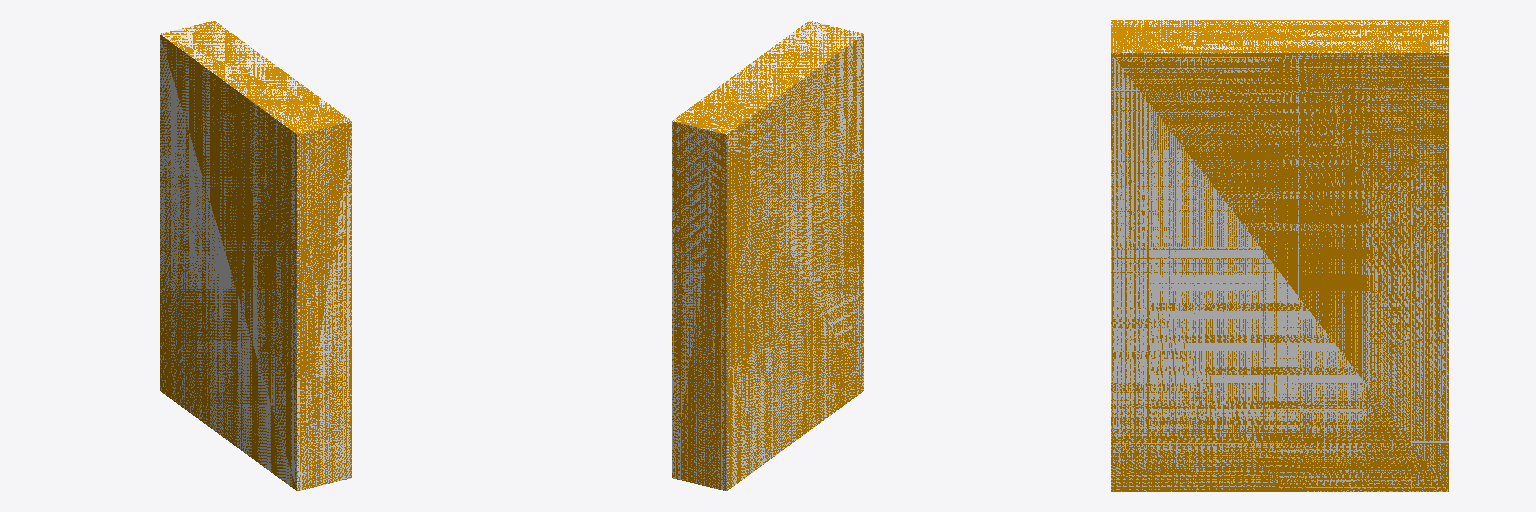
URDF robot description (my_object):
<?xml version="1.0" ?>
<robot name="my_object" static="true">
  <link name="base_link">
  <inertial>
    <mass value="0.453" />
    <origin xyz="0 0 0.0" />
    <inertia ixx="1.0" ixy="0.0" ixz="0.0" iyy="1.0" iyz="0.0" izz="1.0"/>
  </inertial>
  <visual>
   <origin xyz="0 0 0.0" rpy="0 0 0" />
   <geometry>
     <mesh filename="package://cob_gazebo_objects/Media/models/book_pferdewitze.dae"/>
   </geometry>
  </visual>
  <collision>
   <origin xyz="0 0 0" rpy="0 0 0" />
   <geometry>
     <box size="0.032 0.14 0.20" />
   </geometry>
  </collision>
  </link>

<gazebo>
	<static>true</static>
</gazebo>

<gazebo reference="base_link">
  <mu1>50.0</mu1>
  <mu2>50.0</mu2>
  <kp>1000000.0</kp>
  <kd>1.0</kd>
</gazebo>
</robot>

--- Facts derived from the render (not from the file) ---
The picture shows the robot from 3 angles, left to right: view 1: azimuth 30°, elevation 25°; view 2: azimuth 150°, elevation 25°; view 3: azimuth 270°, elevation 25°; orthographic projection.
Robot: my_object — 1 links, 0 joints (none); root link base_link; default pose: all joints at 0.
Links seen in each view (by area): view 1: base_link; view 2: base_link; view 3: base_link.
Boxes of the visible links, x1=… form: base_link: x1=160, y1=21, x2=351, y2=490; base_link: x1=672, y1=21, x2=863, y2=490; base_link: x1=1111, y1=20, x2=1448, y2=491.
Bounding box of the posed robot: 0.0323 × 0.1395 × 0.1996 m (x, y, z).
Meshes: 1 distinct files referenced, 1 mesh visuals loaded (1 Collada DAE).